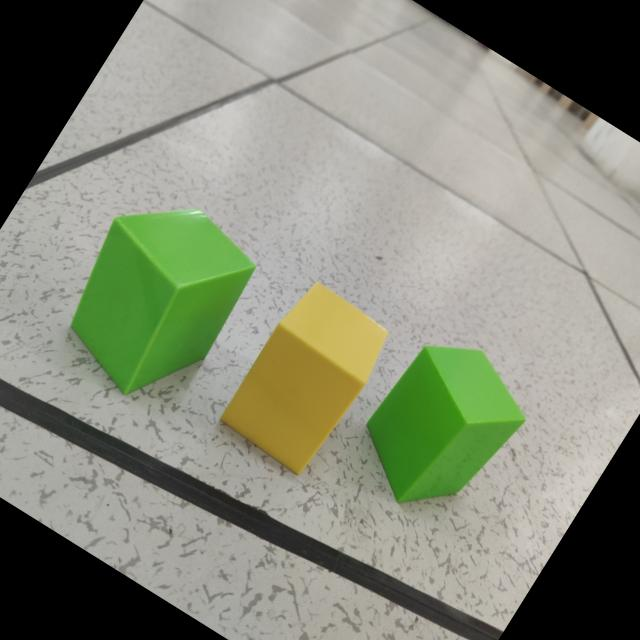green: (68, 211, 255, 395), (364, 345, 524, 505)
yellow: (218, 284, 386, 475)
